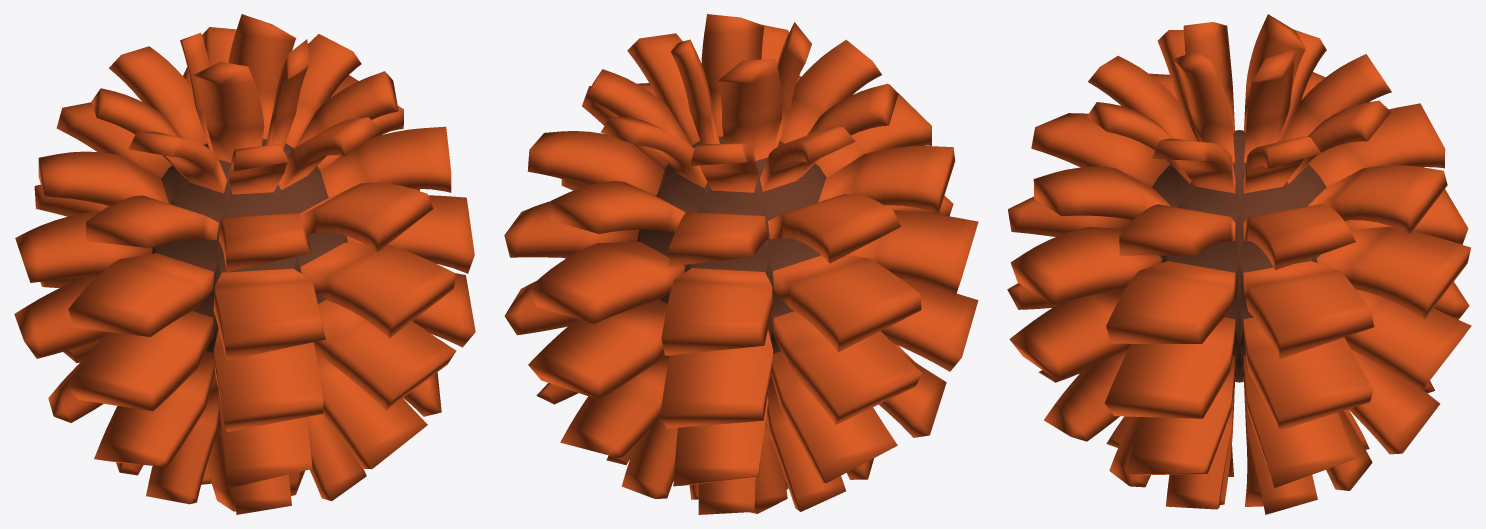
Rendered from NatureObject.obj.
3 views of the same model, side by side, from view 1: azimuth 30°, elevation 25°; view 2: azimuth 150°, elevation 25°; view 3: azimuth 270°, elevation 25° (orthographic).
Parts seen in each view (by area): view 1: 球; view 2: 球; view 3: 球.
Part boxes in pixels (<box>): 球: <box>14,14,475,514</box>; 球: <box>504,14,978,514</box>; 球: <box>1007,14,1471,514</box>.
Bounding box in the file's own units: 0.9265 × 1 × 0.9265.
Materials: 1 (1 with a texture image).
